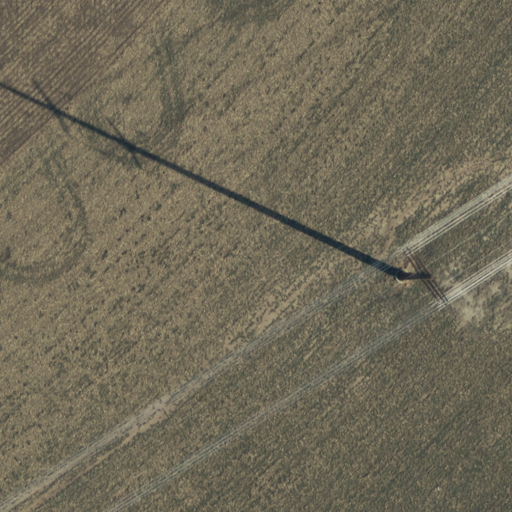TT: (389, 245, 456, 309)
